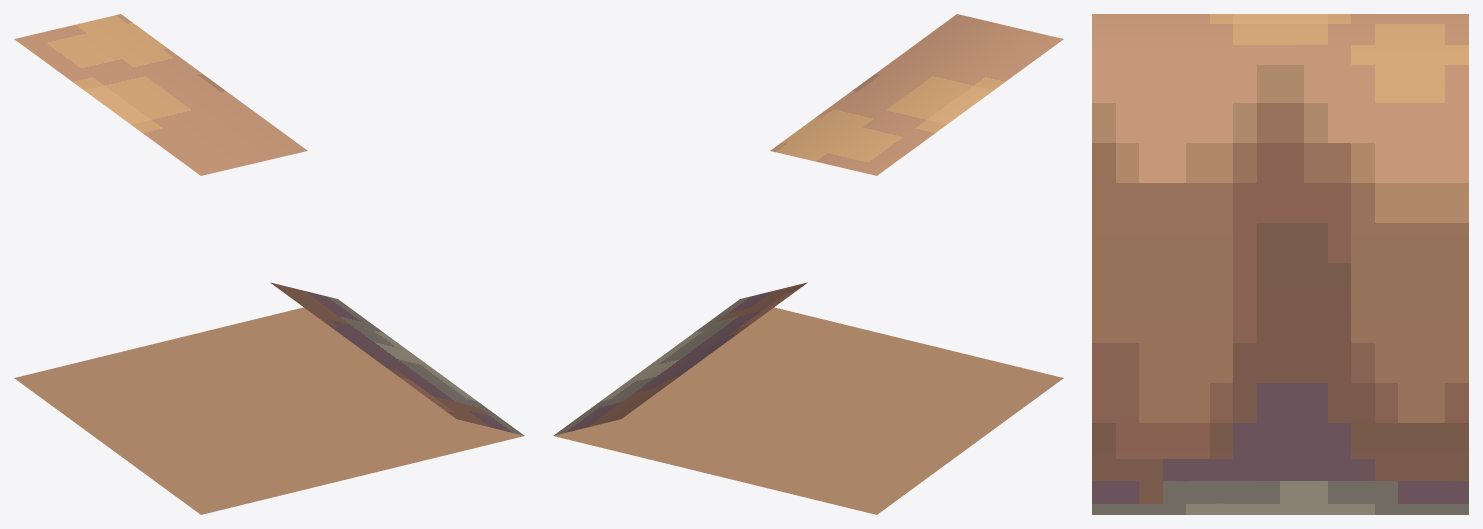
3 renders of one model, left to right at view 1: azimuth 30°, elevation 25°; view 2: azimuth 150°, elevation 25°; view 3: azimuth 270°, elevation 25°, orthographic.
Bounding box in the file's own units: 1 × 1 × 1.
Materials: 1 (1 with a texture image).
